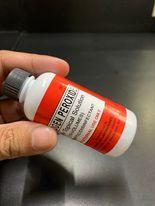-Bottle-: (4, 67, 138, 158)
